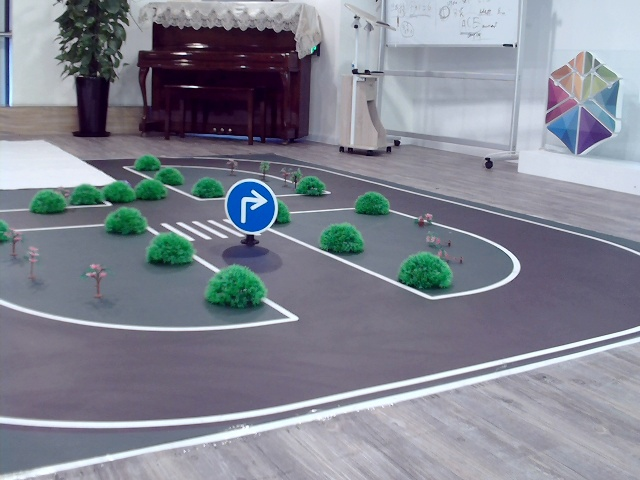turn_right: (238, 188, 264, 220)
